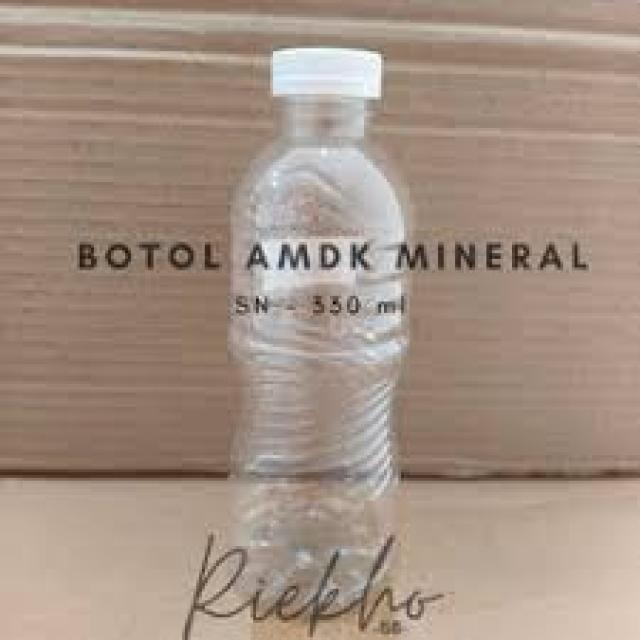good: (209, 42, 422, 628)
